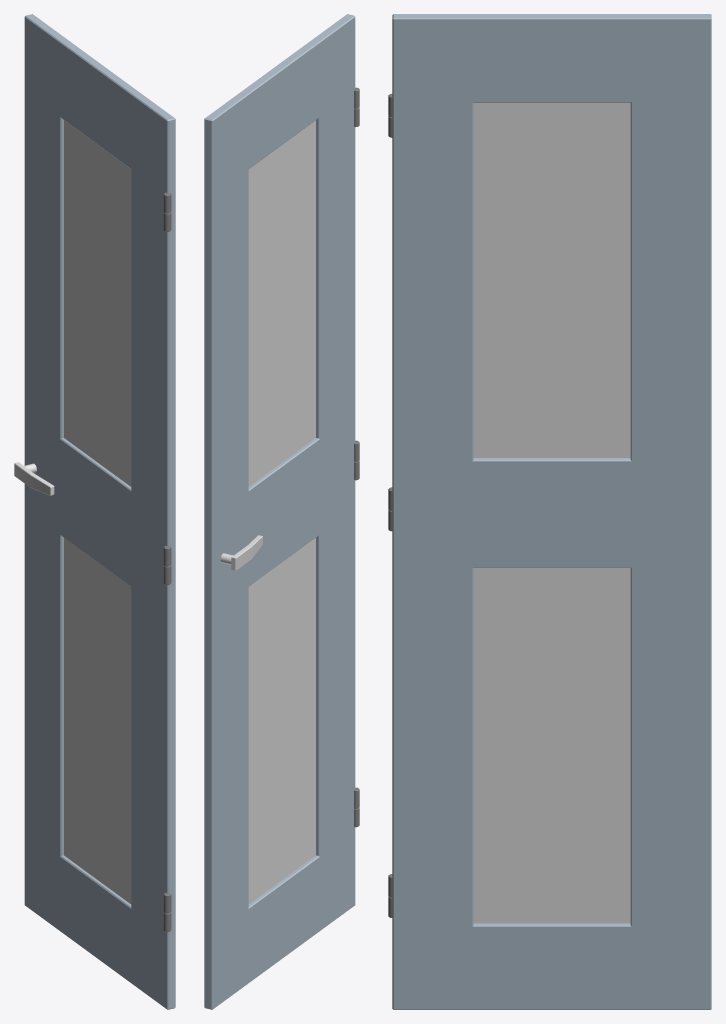
The model's file is Cupboard door right.fbx.
3 renders of one model, left to right at view 1: azimuth 30°, elevation 25°; view 2: azimuth 150°, elevation 25°; view 3: azimuth 270°, elevation 25°, orthographic. The views are drawn at different scales.
Parts seen in each view (by area): view 1: Cupboard door right; view 2: Cupboard door right; view 3: Cupboard door right.
Boxes of the visible parts, bbox=[...] form: Cupboard door right: bbox=[14, 14, 175, 1009]; Cupboard door right: bbox=[204, 14, 359, 1009]; Cupboard door right: bbox=[388, 14, 711, 1009].
Size of the model in its own units: 5.77 by 192 by 56.75.
